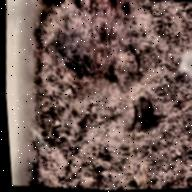boar: (126, 86, 165, 140)
